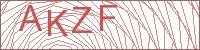A: (18, 3, 43, 33)
F: (97, 3, 120, 33)
K: (44, 9, 70, 40)
Z: (70, 5, 94, 35)
